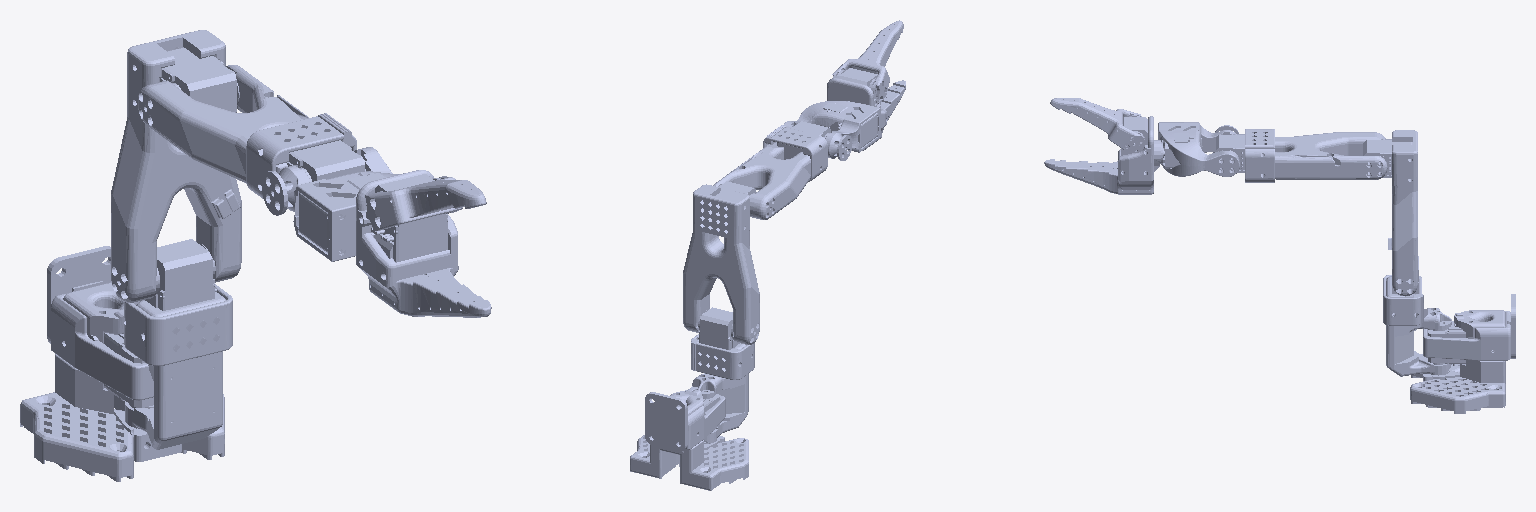
robot.urdf — so_arm100:
<?xml version="1.0" encoding="utf-8"?>
<!-- This URDF was automatically created by SolidWorks to URDF Exporter! Originally created by [author] ([email redacted]) 
     Commit Version: 1.6.0-4-g7f85cfe  Build Version: 1.6.7995.38578
     For more information, please see http://wiki.ros.org/sw_urdf_exporter -->
<robot
  name="so_arm100">
  <link
    name="Base">
    <inertial>
      <origin
        xyz="-2.3054917368973E-06 -0.0176601899267237 0.031113668238176"
        rpy="0 0 0" />
      <mass
        value="0.193749012982645" />
      <inertia
        ixx="0.000137687906786269"
        ixy="-4.28474999585736E-09"
        ixz="2.103221173073E-08"
        iyy="0.00014498981682198"
        iyz="-2.26441221181679E-05"
        izz="0.000168676019768194" />
    </inertial>
    <visual>
      <origin
        xyz="0 0 0"
        rpy="0 0 0" />
      <geometry>
        <mesh
          filename="package://so_arm100/meshes/Base.STL" />
      </geometry>
      <material
        name="">
        <color
          rgba="0.792156862745098 0.819607843137255 0.933333333333333 1" />
      </material>
    </visual>
    <collision>
      <origin
        xyz="0 0 0"
        rpy="0 0 0" />
      <geometry>
        <mesh
          filename="package://so_arm100/meshes/Base.STL" />
      </geometry>
    </collision>
  </link>
  <link
    name="shoulder_link">
    <inertial>
      <origin
        xyz="-9.1232E-05 0.04538 0.031241"
        rpy="0 0 0" />
      <mass
        value="0.11865" />
      <inertia
        ixx="5.9025E-05"
        ixy="4.908E-07"
        ixz="-5.9045E-08"
        iyy="3.2118E-05"
        iyz="-4.5803E-06"
        izz="5.859E-05" />
    </inertial>
    <visual>
      <origin
        xyz="0 0 0"
        rpy="0 0 0" />
      <geometry>
        <mesh
          filename="package://so_arm100/meshes/shoulder_link.STL" />
      </geometry>
      <material
        name="">
        <color
          rgba="0.79216 0.81961 0.93333 1" />
      </material>
    </visual>
    <collision>
      <origin
        xyz="0 0 0"
        rpy="0 0 0" />
      <geometry>
        <mesh
          filename="package://so_arm100/meshes/shoulder_link.STL" />
      </geometry>
    </collision>
  </link>
  <joint
    name="shoulder_pan_joint"
    type="revolute">
    <origin
      xyz="0 -0.0452 0.0305"
      rpy="1.5708 0 0" />
    <parent
      link="Base" />
    <child
      link="shoulder_link" />
    <axis
      xyz="0 -1 0" />
    <limit
      lower="-1.57"
      upper="1.57"
      effort="100"
      velocity="10" />
  </joint>
  <link
    name="upper_arm_link">
    <inertial>
      <origin
        xyz="0.0156827947709601 0.0701802155153415 0.00310545123916983"
        rpy="0 0 0" />
      <mass
        value="0.162409284912556" />
      <inertia
        ixx="0.000167153147342833"
        ixy="1.03902639480366E-06"
        ixz="-1.20158973046588E-08"
        iyy="7.01946994486248E-05"
        iyz="2.11884860629144E-06"
        izz="0.000213280242264327" />
    </inertial>
    <visual>
      <origin
        xyz="0 0 0"
        rpy="0 0 0" />
      <geometry>
        <mesh
          filename="package://so_arm100/meshes/upper_arm_link.STL" />
      </geometry>
      <material
        name="">
        <color
          rgba="0.792156862745098 0.819607843137255 0.933333333333333 1" />
      </material>
    </visual>
    <collision>
      <origin
        xyz="0 0 0"
        rpy="0 0 0" />
      <geometry>
        <mesh
          filename="package://so_arm100/meshes/upper_arm_link.STL" />
      </geometry>
    </collision>
  </link>
  <joint
    name="shoulder_lift_joint"
    type="revolute">
    <origin
      xyz="-0.0158 0.0885 0.0306"
      rpy="0 0 0" />
    <parent
      link="shoulder_link" />
    <child
      link="upper_arm_link" />
    <axis
      xyz="1 0 0" />
    <limit
      lower="-1.57"
      upper="1.57"
      effort="100"
      velocity="10" />
  </joint>
  <link
    name="forearm_link">
    <inertial>
      <origin
        xyz="-0.0193960375787366 0.00137796346147245 0.0768006759493438"
        rpy="0 0 0" />
      <mass
        value="0.147967771056037" />
      <inertia
        ixx="0.000105333994797778"
        ixy="1.73059614958688E-07"
        ixz="-1.17203066998378E-05"
        iyy="0.000138766651583021"
        iyz="1.77429933964553E-06"
        izz="5.08741632405579E-05" />
    </inertial>
    <visual>
      <origin
        xyz="0 0 0"
        rpy="0 0 0" />
      <geometry>
        <mesh
          filename="package://so_arm100/meshes/forearm_link.STL" />
      </geometry>
      <material
        name="">
        <color
          rgba="0.792156862745098 0.819607843137255 0.933333333333333 1" />
      </material>
    </visual>
    <collision>
      <origin
        xyz="0 0 0"
        rpy="0 0 0" />
      <geometry>
        <mesh
          filename="package://so_arm100/meshes/forearm_link.STL" />
      </geometry>
    </collision>
  </link>
  <joint
    name="elbow_joint"
    type="revolute">
    <origin
      xyz="0.0317 0.11257 0.028"
      rpy="0 0 0" />
    <parent
      link="upper_arm_link" />
    <child
      link="forearm_link" />
    <axis
      xyz="1 0 0" />
    <limit
      lower="-1.57"
      upper="1.57"
      effort="100"
      velocity="10" />
  </joint>
  <link
    name="wrist_1_link">
    <inertial>
      <origin
        xyz="-0.0246265312098786 -2.34622216576663E-05 0.0352278998817509"
        rpy="0 0 0" />
      <mass
        value="0.0661320665571636" />
      <inertia
        ixx="1.95717492021957E-05"
        ixy="5.20090676290333E-09"
        ixz="6.62714409160709E-07"
        iyy="3.45401433304967E-05"
        iyz="-4.09549066423119E-08"
        izz="2.38028416973655E-05" />
    </inertial>
    <visual>
      <origin
        xyz="0 0 0"
        rpy="0 0 0" />
      <geometry>
        <mesh
          filename="package://so_arm100/meshes/wrist_1_link.STL" />
      </geometry>
      <material
        name="">
        <color
          rgba="0.792156862745098 0.819607843137255 0.933333333333333 1" />
      </material>
    </visual>
    <collision>
      <origin
        xyz="0 0 0"
        rpy="0 0 0" />
      <geometry>
        <mesh
          filename="package://so_arm100/meshes/wrist_1_link.STL" />
      </geometry>
    </collision>
  </link>
  <joint
    name="wrist_pitch_joint"
    type="revolute">
    <origin
      xyz="0 0.0052 0.1349"
      rpy="0 0 0" />
    <parent
      link="forearm_link" />
    <child
      link="wrist_1_link" />
    <axis
      xyz="1 0 0" />
    <limit
      lower="-1.57"
      upper="1.57"
      effort="100"
      velocity="10" />
  </joint>
  <link
    name="wrist_2_link">
    <inertial>
      <origin
        xyz="0.000450839256531511 -0.00553729747557533 0.0295127613946878"
        rpy="0 0 0" />
      <mass
        value="0.0931646505689508" />
      <inertia
        ixx="5.02748039583909E-05"
        ixy="-5.95959163846009E-07"
        ixz="1.40805138073889E-07"
        iyy="4.34101625280102E-05"
        iyz="7.09851524639004E-06"
        izz="3.04999659322705E-05" />
    </inertial>
    <visual>
      <origin
        xyz="0 0 0"
        rpy="0 0 0" />
      <geometry>
        <mesh
          filename="package://so_arm100/meshes/wrist_2_link.STL" />
      </geometry>
      <material
        name="">
        <color
          rgba="0.792156862745098 0.819607843137255 0.933333333333333 1" />
      </material>
    </visual>
    <collision>
      <origin
        xyz="0 0 0"
        rpy="0 0 0" />
      <geometry>
        <mesh
          filename="package://so_arm100/meshes/wrist_2_link.STL" />
      </geometry>
    </collision>
  </link>
  <joint
    name="wrist_roll_joint"
    type="revolute">
    <origin
      xyz="-0.0161 0 0.0586"
      rpy="0 0 0" />
    <parent
      link="wrist_1_link" />
    <child
      link="wrist_2_link" />
    <axis
      xyz="0 0 -1" />
    <limit
      lower="-1.57"
      upper="1.57"
      effort="100"
      velocity="10" />
  </joint>
  <link
    name="jaw_link">
    <inertial>
      <origin
        xyz="0.015016 0.013795 0.027133"
        rpy="0 0 0" />
      <mass
        value="0.020214" />
      <inertia
        ixx="8.9646E-06"
        ixy="-8.7106E-08"
        ixz="-1.719E-07"
        iyy="9.5035E-06"
        iyz="-3.2096E-06"
        izz="4.5648E-06" />
    </inertial>
    <visual>
      <origin
        xyz="0 0 0"
        rpy="0 0 0" />
      <geometry>
        <mesh
          filename="package://so_arm100/meshes/jaw_link.STL" />
      </geometry>
      <material
        name="">
        <color
          rgba="0.79216 0.81961 0.93333 1" />
      </material>
    </visual>
    <collision>
      <origin
        xyz="0 0 0"
        rpy="0 0 0" />
      <geometry>
        <mesh
          filename="package://so_arm100/meshes/jaw_link.STL" />
      </geometry>
    </collision>
  </link>
  <joint
    name="jaw_joint"
    type="revolute">
    <origin
      xyz="-0.0155 0.0202 0.0259"
      rpy="0 0 0" />
    <parent
      link="wrist_2_link" />
    <child
      link="jaw_link" />
    <axis
      xyz="1 0 0" />
    <limit
      lower="-0.7"
      upper="0.7"
      effort="100"
      velocity="10" />
  </joint>
  <ros2_control name="so_arm100_system" type="system">
    <hardware>
      <plugin>mock_components/GenericSystem</plugin>
    </hardware>
    <joint name="shoulder_pan_joint">
      <command_interface name="position"/>
      <state_interface name="position"/>
      <state_interface name="velocity"/>
    </joint>
    <joint name="shoulder_lift_joint">
      <command_interface name="position"/>
      <state_interface name="position"/>
      <state_interface name="velocity"/>
    </joint>
    <joint name="elbow_joint">
      <command_interface name="position"/>
      <state_interface name="position"/>
      <state_interface name="velocity"/>
    </joint>
    <joint name="wrist_pitch_joint">
      <command_interface name="position"/>
      <state_interface name="position"/>
      <state_interface name="velocity"/>
    </joint>
    <joint name="wrist_roll_joint">
      <command_interface name="position"/>
      <state_interface name="position"/>
      <state_interface name="velocity"/>
    </joint>
    <joint name="jaw_joint">
      <command_interface name="position"/>
      <state_interface name="position"/>
      <state_interface name="velocity"/>
    </joint>
  </ros2_control>
</robot>

--- Render facts (derived) ---
3 views of the same robot in one strip: view 1: azimuth 30°, elevation 25°; view 2: azimuth 150°, elevation 25°; view 3: azimuth 270°, elevation 25° (orthographic).
Robot: so_arm100 — 7 links, 6 joints (6 revolute); root link Base; default pose: every joint at zero.
Visible links, largest first — view 1: Base, upper_arm_link, shoulder_link, forearm_link, wrist_2_link, wrist_1_link, jaw_link; view 2: upper_arm_link, Base, forearm_link, shoulder_link, wrist_1_link, wrist_2_link, jaw_link; view 3: Base, forearm_link, upper_arm_link, shoulder_link, wrist_2_link, wrist_1_link, jaw_link.
Link boxes in pixels (x1,y1,x2,y2): Base: (20,246,224,481); upper_arm_link: (111,30,241,302); shoulder_link: (124,239,232,449); forearm_link: (138,65,365,208); wrist_2_link: (356,170,491,317); wrist_1_link: (261,147,398,261); jaw_link: (365,176,486,230); upper_arm_link: (683,181,759,344); Base: (630,388,748,490); forearm_link: (713,121,830,219); shoulder_link: (691,307,754,443); wrist_1_link: (784,101,880,160); wrist_2_link: (827,68,905,150); jaw_link: (832,20,903,100); Base: (1410,294,1515,413); forearm_link: (1216,129,1387,182); upper_arm_link: (1363,130,1417,295); shoulder_link: (1383,256,1451,376); wrist_2_link: (1044,115,1160,194); wrist_1_link: (1158,122,1239,176); jaw_link: (1050,98,1144,153).
Bounding box of the posed robot: 0.1109 × 0.4301 × 0.2915 m (x, y, z).
Meshes: 7 distinct files referenced, 7 mesh visuals loaded (7 binary STL).